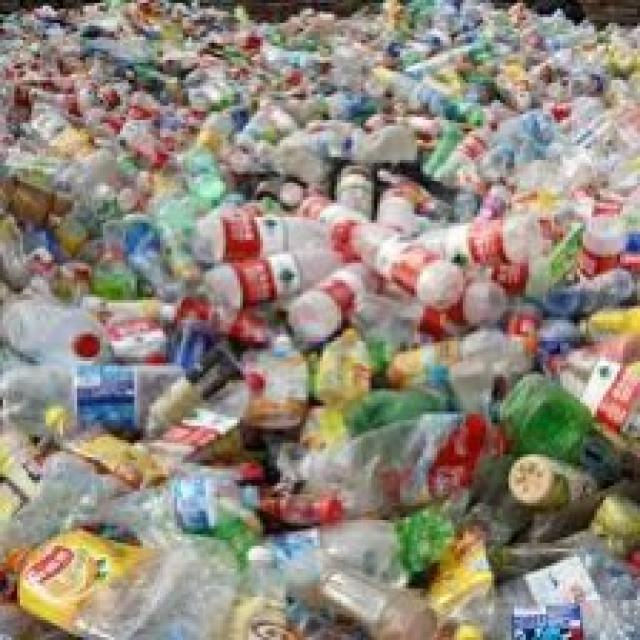heap: (49, 111, 635, 606)
plastic_bottle: (5, 520, 253, 640), (274, 525, 472, 640), (317, 193, 456, 316), (9, 290, 113, 383), (499, 370, 587, 462), (193, 208, 310, 273)
